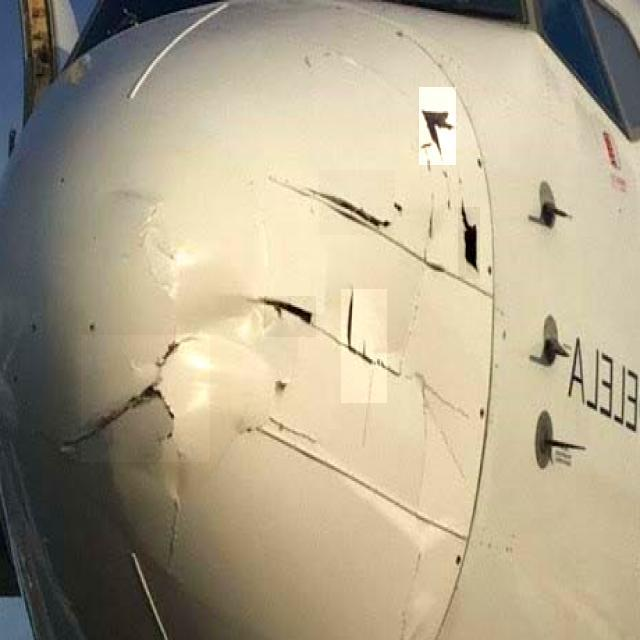crack: (82, 336, 211, 463), (342, 290, 388, 404), (320, 171, 396, 236), (420, 88, 457, 166), (265, 297, 317, 338), (459, 208, 481, 280)
